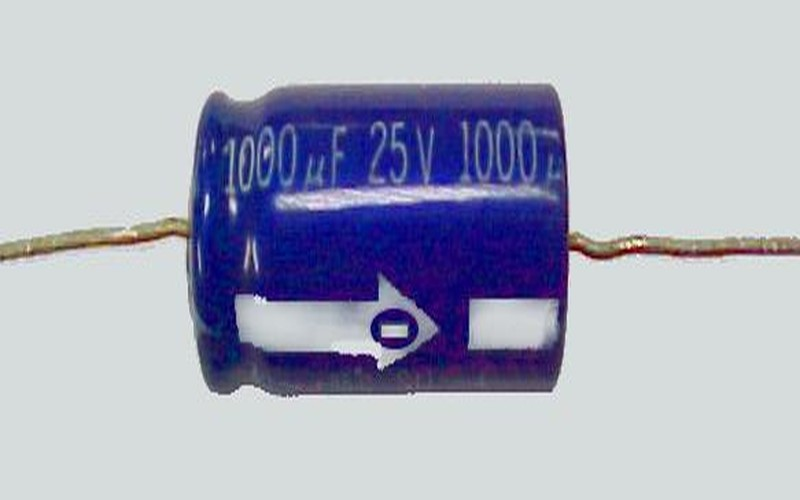Capacitor: (0, 74, 800, 419)
